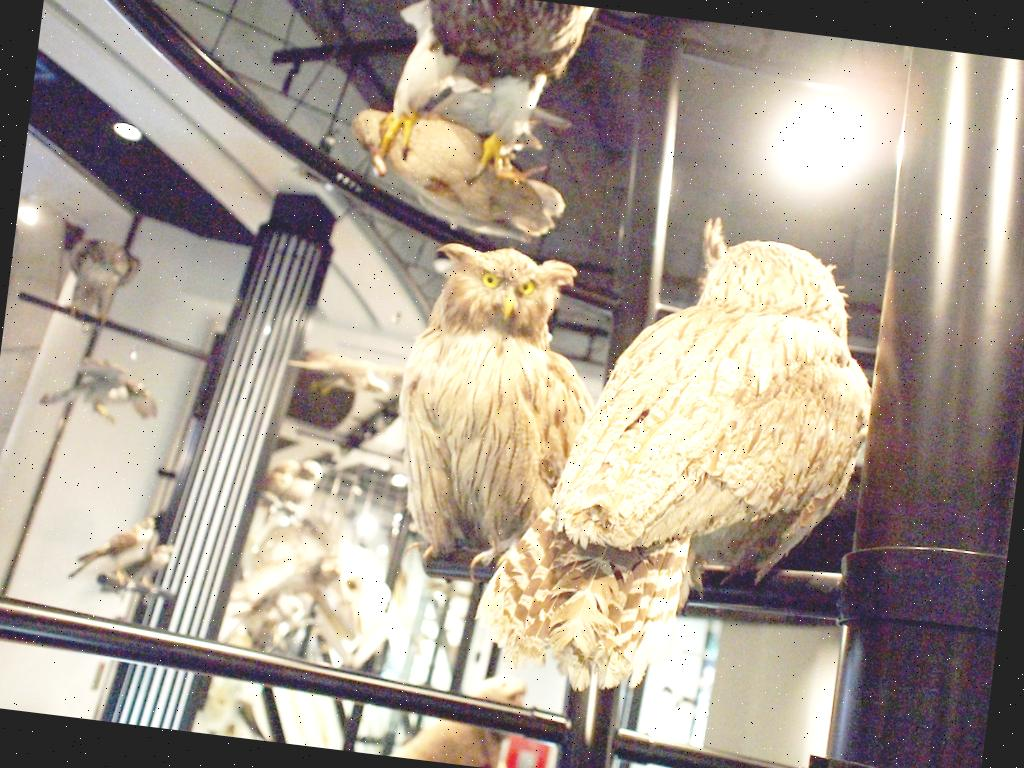Owl: (458, 188, 892, 724), (380, 235, 620, 592), (242, 530, 403, 675)
